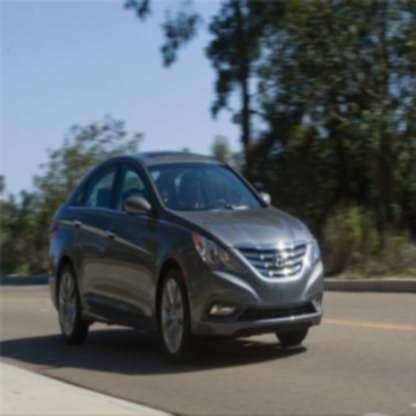Vehicle: (32, 140, 334, 387)
